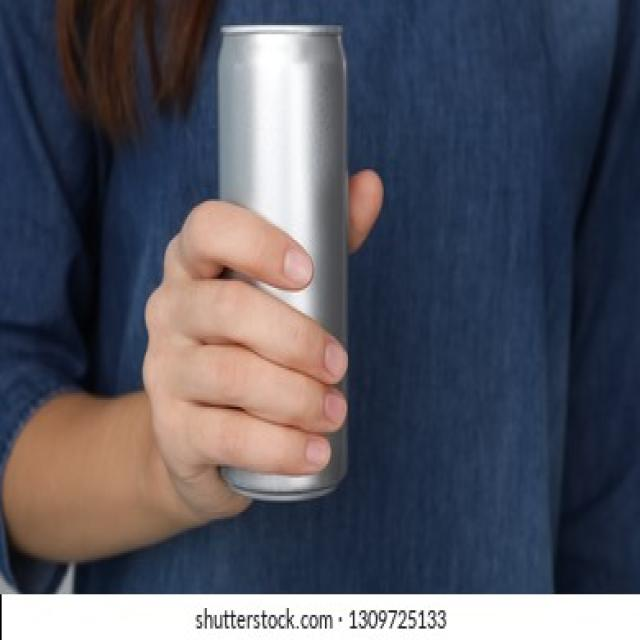soda_can: (208, 3, 348, 510)
